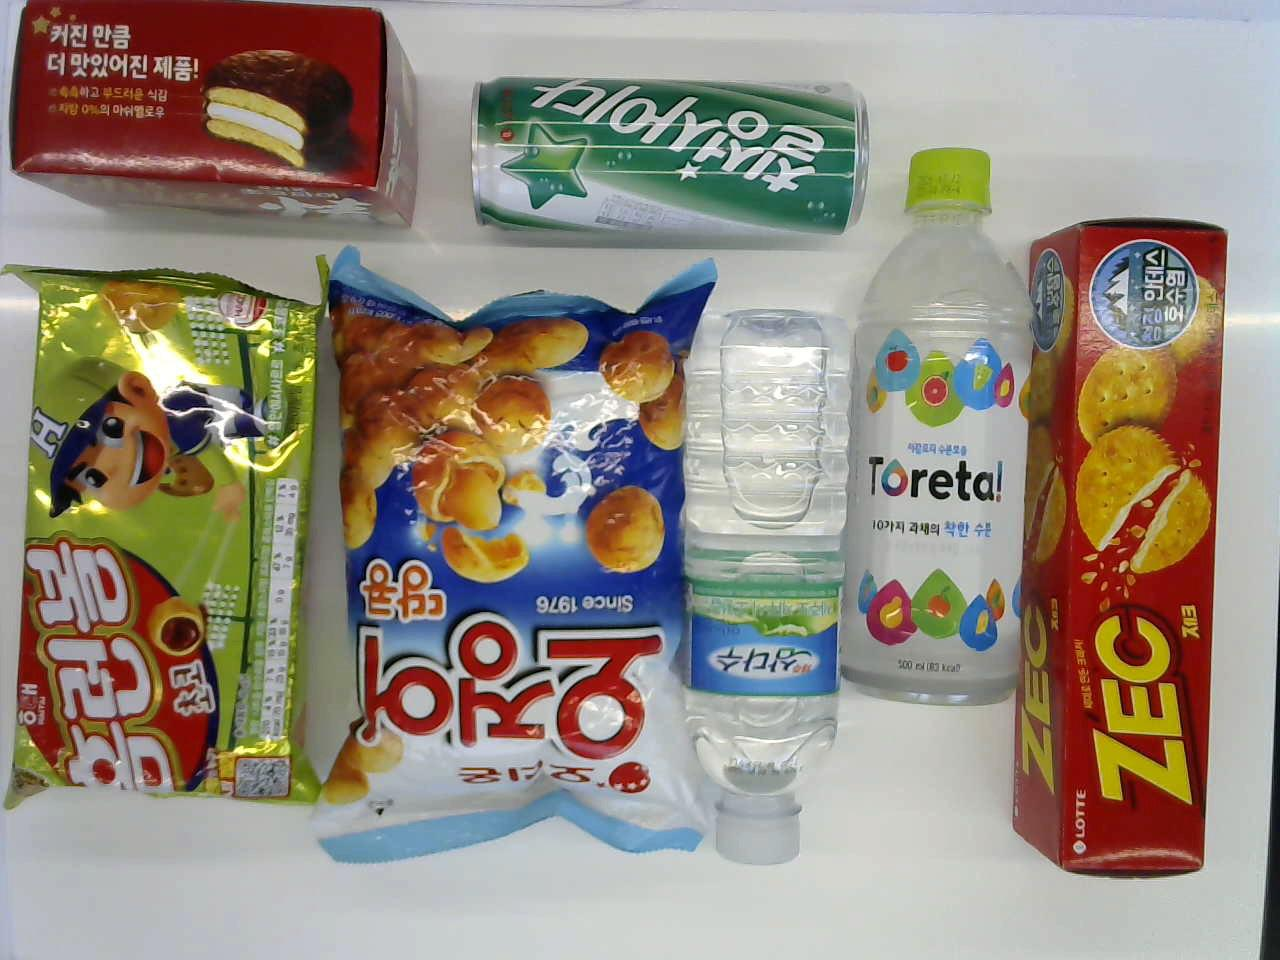chocopie: (19, 0, 398, 236)
cidar: (467, 61, 874, 256)
homerunball: (7, 272, 319, 822)
samdasu: (683, 308, 851, 861)
squid_peanut: (318, 272, 700, 869)
toreta: (845, 125, 1034, 721)
zec: (1014, 216, 1239, 877)
